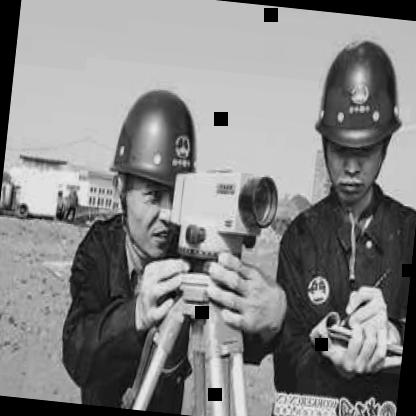helmet: (295, 14, 416, 219), (90, 65, 203, 269)
